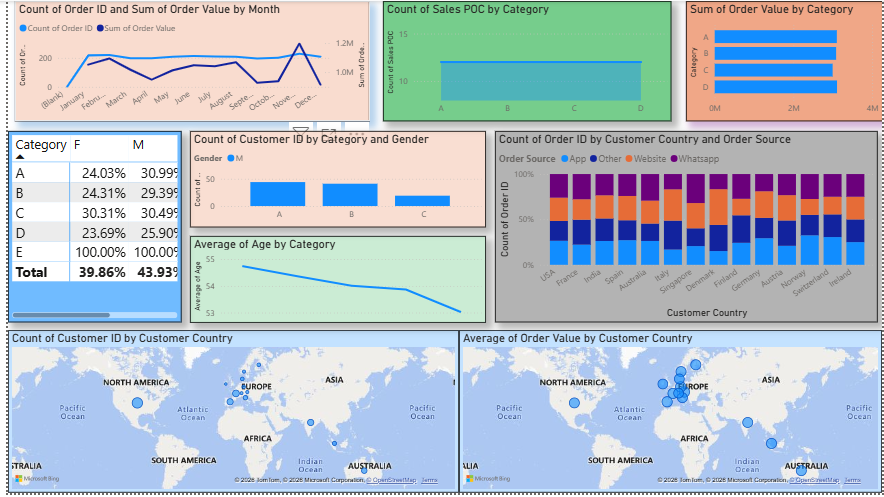

The dashboard page shown, as its layout file describes it:
{"tool":"powerbi","page":{"name":"orders","canvas":[1280,720],"ordinal":1},"visuals":[{"type":"lineChart","fields":{"Category":["Orders.Order Datetime.Variation.Date Hierarchy.Month"],"Y":["Count(Orders.Order ID)"],"Y2":["Sum(Orders.Order Value)"]},"box":[10.6,0,519.4,175.6],"z":0},{"type":"map","fields":{"Category":["Orders.Customer Country"],"Size":["CountNonNull(Orders.Customer ID)"]},"box":[0,481.5,660.2,237.7],"z":1000},{"type":"map","fields":{"Category":["Orders.Customer Country"],"Size":["Avg(Orders.Order Value)"]},"box":[660.2,481.5,619.3,237.7],"z":2000},{"type":"pivotTable","fields":{"Rows":["Customers.Category"],"Columns":["Customers.Gender"],"Values":["Customers.% Customers Did Not Order"]},"box":[0,190.8,254.4,280.1],"z":3000},{"type":"clusteredColumnChart","fields":{"Category":["Customers.Category"],"Series":["Customers.Gender"],"Y":["Count(Customers.Customer ID)"]},"box":[266.5,190.8,433.1,140.8],"z":4000},{"type":"lineChart","fields":{"Category":["Customers.Category"],"Y":["Avg(Customers.Age)"]},"box":[266.5,343.7,433.1,127.2],"z":5000},{"type":"barChart","fields":{"Category":["Customers.Category"],"Y":["Sum(Orders.Order Value)"]},"box":[991.8,0,287.7,175.6],"z":6000},{"type":"areaChart","fields":{"Category":["Customers.Category"],"Y":["CountNonNull(Sales Targets.Sales POC)"]},"box":[548.1,0,422.5,175.6],"z":7000},{"type":"hundredPercentStackedColumnChart","fields":{"Category":["Orders.Customer Country"],"Series":["Orders.Order Source"],"Y":["Count(Orders.Order ID)"]},"box":[713.2,190.8,560.3,280.1],"z":8000}]}

Visuals, with their boxes in screenshot pixels (x1, y1, x2, y2), scaled from the page's 1280x720 canvas onto the 884x497 screenshot:
lineChart - Orders.Order Datetime.Variation.Date Hierarchy.Month x Count(Orders.Order ID): (left=7, top=0, right=366, bottom=121)
map - Orders.Customer Country x CountNonNull(Orders.Customer ID): (left=0, top=332, right=456, bottom=496)
map - Orders.Customer Country x Avg(Orders.Order Value): (left=456, top=332, right=883, bottom=496)
pivotTable - Customers.Category x Customers.Gender: (left=0, top=132, right=176, bottom=325)
clusteredColumnChart - Customers.Category x Customers.Gender: (left=184, top=132, right=483, bottom=229)
lineChart - Customers.Category x Avg(Customers.Age): (left=184, top=237, right=483, bottom=325)
barChart - Customers.Category x Sum(Orders.Order Value): (left=685, top=0, right=883, bottom=121)
areaChart - Customers.Category x CountNonNull(Sales Targets.Sales POC): (left=379, top=0, right=670, bottom=121)
hundredPercentStackedColumnChart - Orders.Customer Country x Orders.Order Source: (left=493, top=132, right=880, bottom=325)
